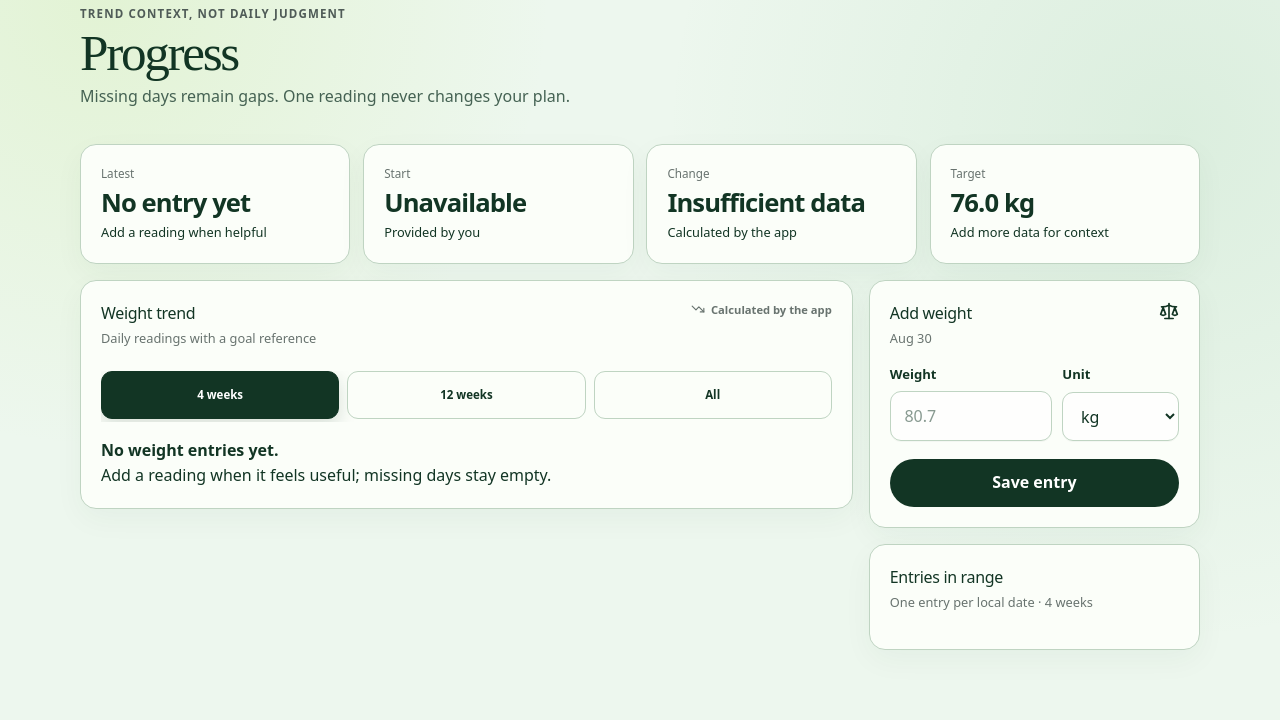
ProgressView weight entry › rejects a bodyless create response instead of retaining an optimistic id
Type "79.5" into the field labelled "Weight" at x=971, y=416, box [890,391,1052,441]
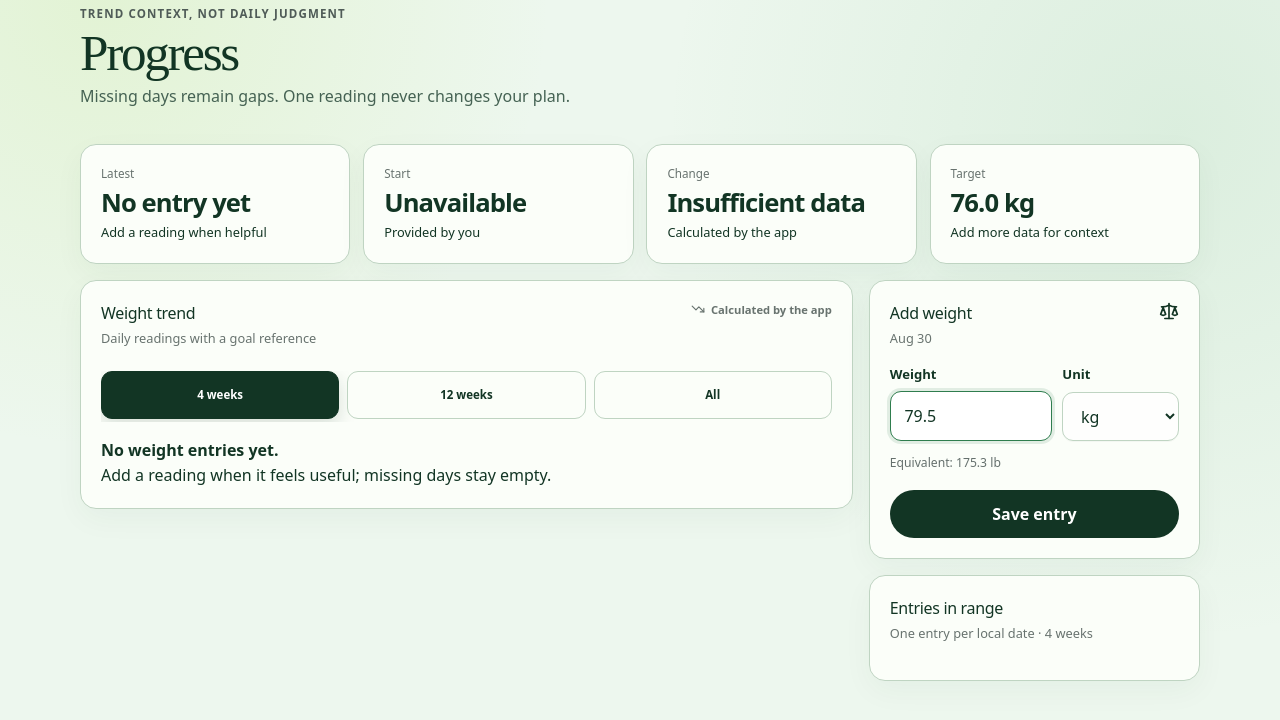
Click the button "Save entry" at x=1034, y=514, box [890,490,1179,538]
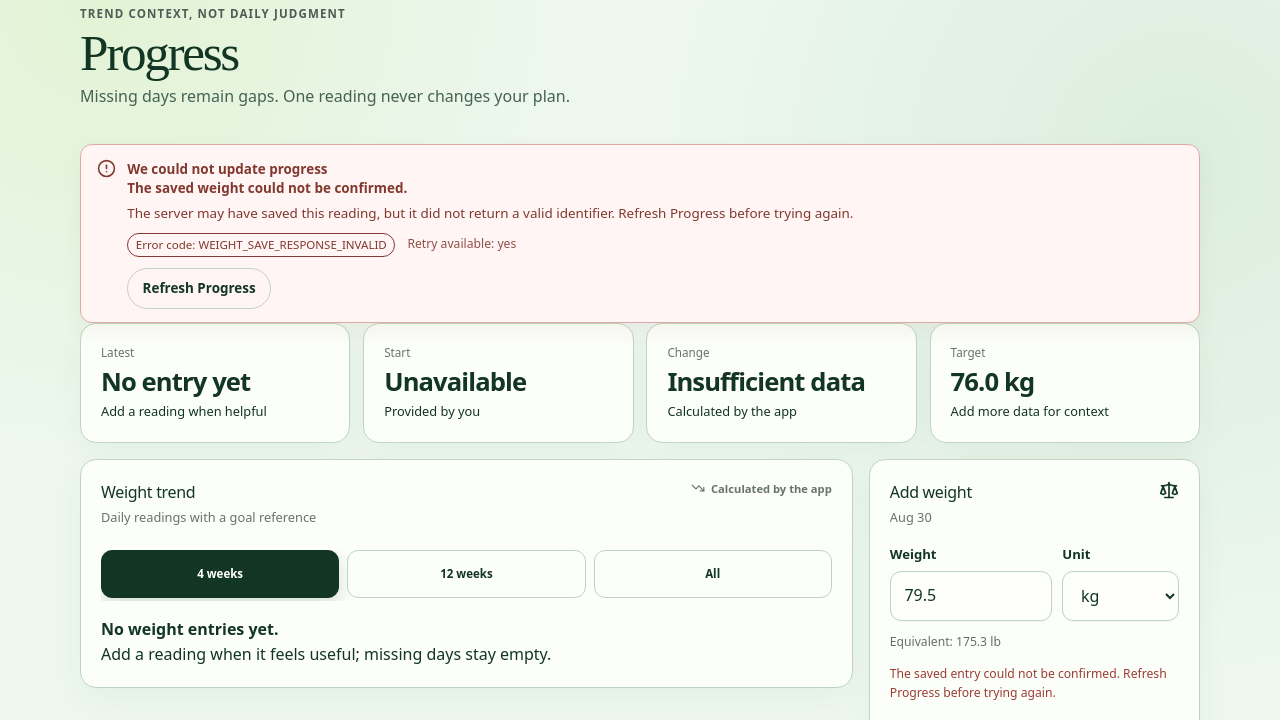
Expected: the text "No weight entries yet." is shown, [101,618,278,640]
Expected: the message "The saved entry could not be confirmed. Refresh Progress before trying again." is shown, [890,665,1179,703]
Expected: the message that starts with "We could not update progress" shows "Error code: WEIGHT_SAVE_RESPONSE_INVALID", [80,144,1200,323]
